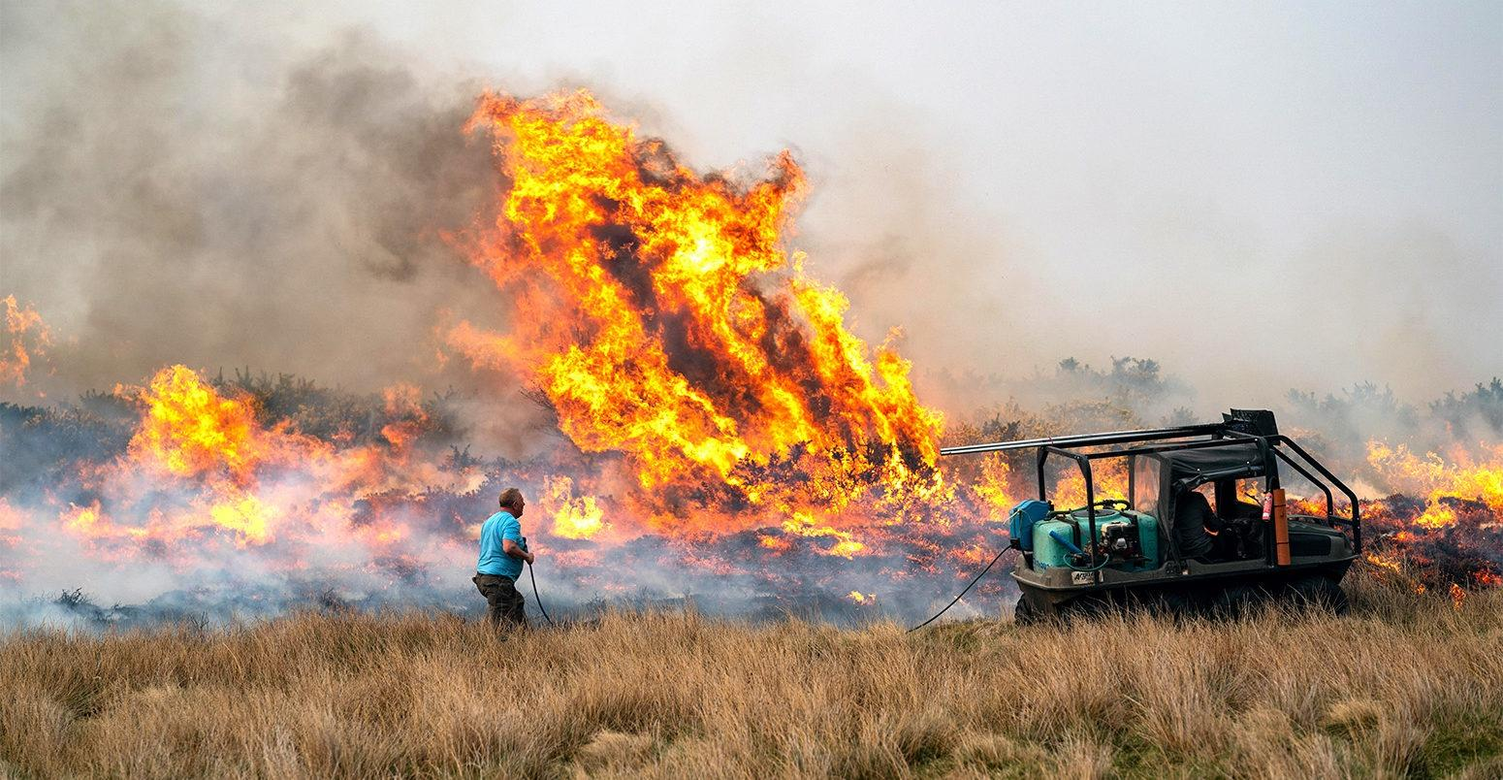victim: (467, 485, 545, 648)
